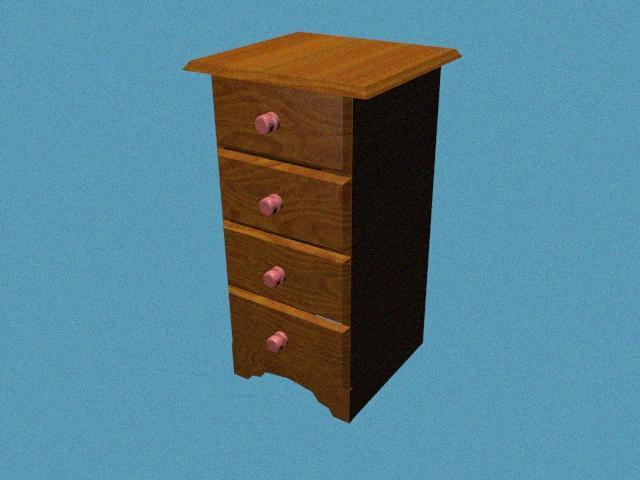cabinet_door: (211, 232, 353, 307), (213, 86, 356, 159), (210, 309, 354, 377), (212, 163, 354, 230)
handle: (249, 100, 285, 141), (250, 186, 287, 219), (257, 259, 289, 294), (261, 322, 291, 359)
